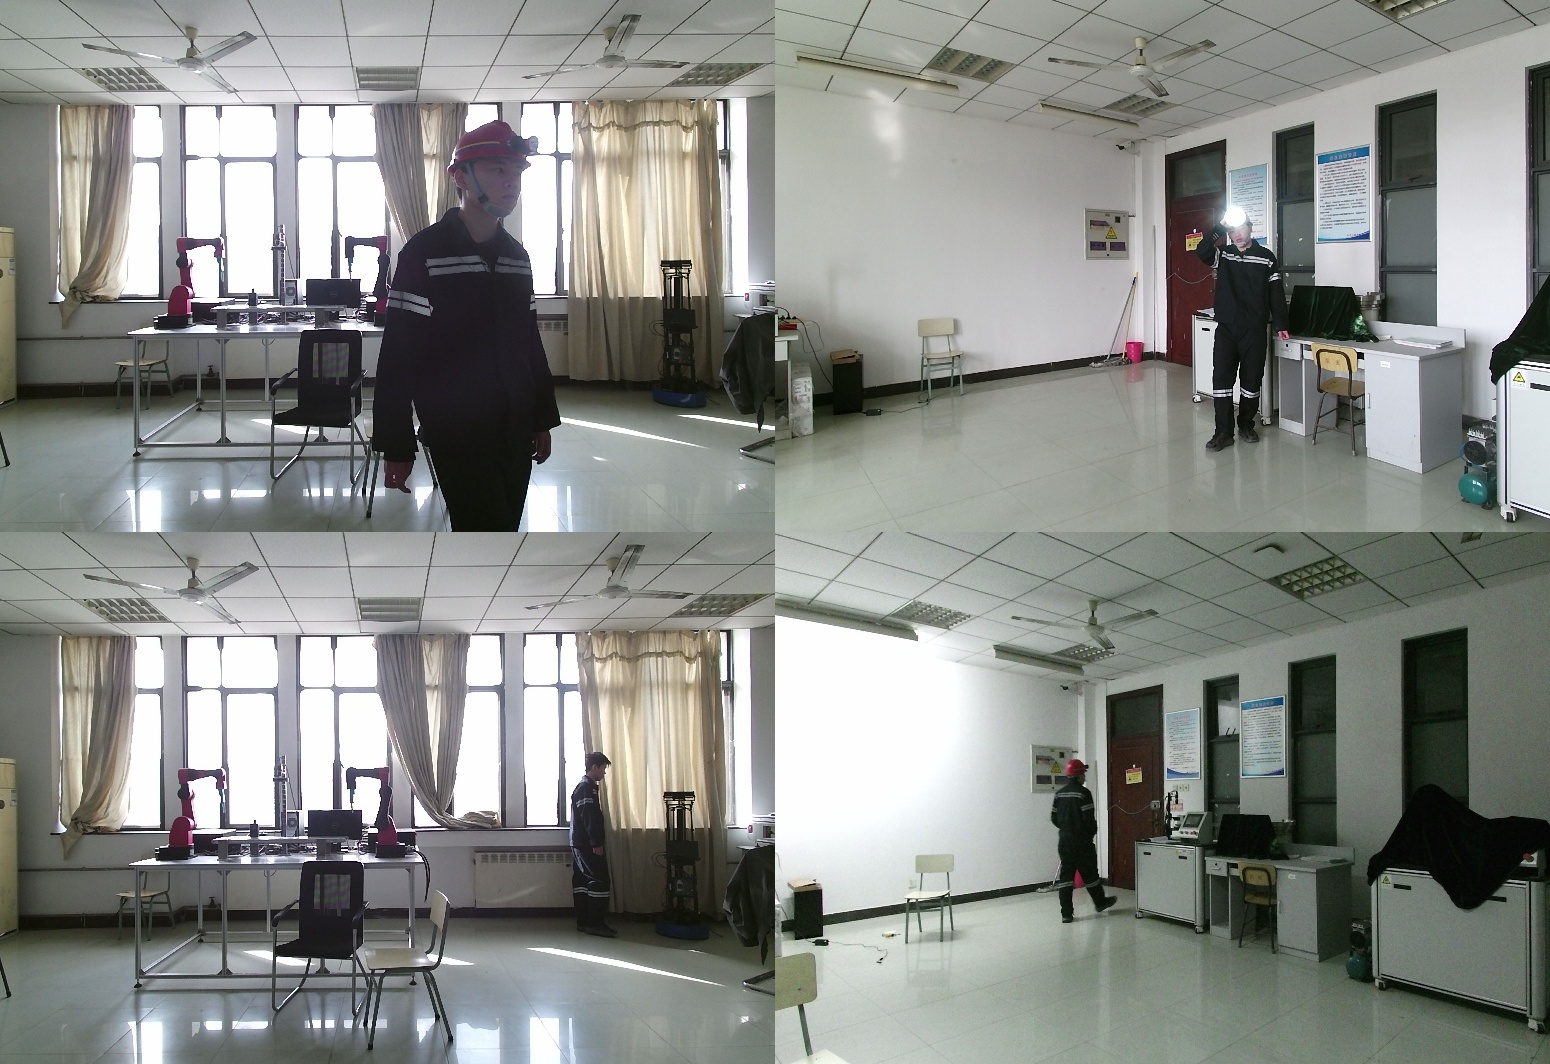person: (383, 121, 571, 532), (1201, 207, 1296, 455), (571, 753, 636, 942), (1050, 761, 1117, 924)
